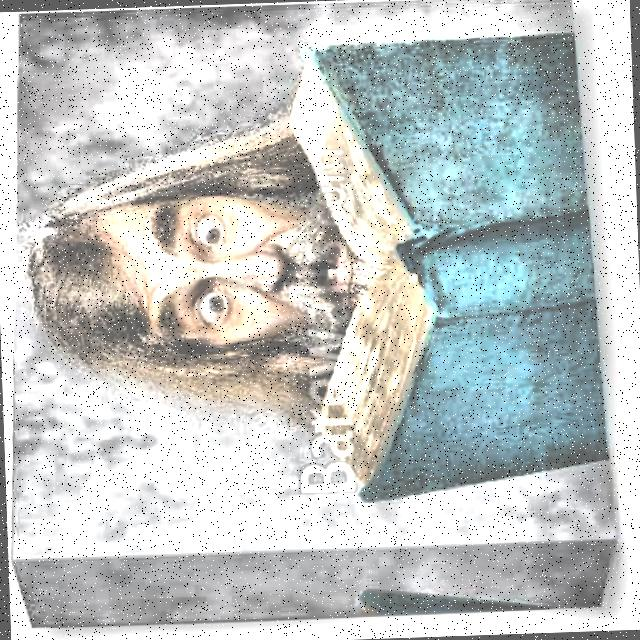surprised: (4, 134, 382, 420)
